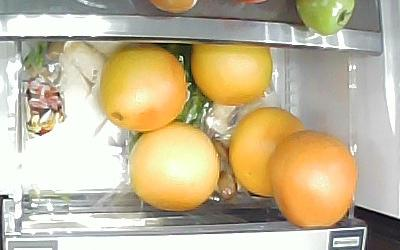grapefruit: (267, 129, 356, 227), (127, 119, 220, 211), (98, 43, 186, 131), (228, 105, 305, 197), (189, 42, 273, 105)
